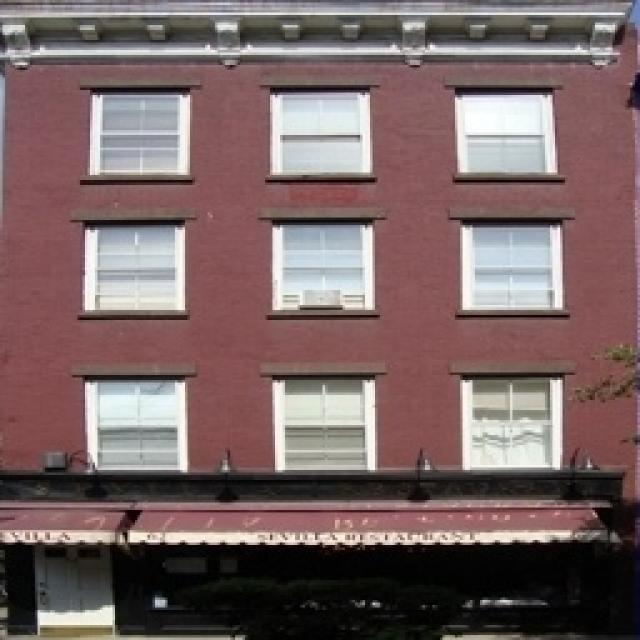Window: (272, 375, 378, 470), (84, 378, 188, 468), (270, 220, 372, 310), (460, 378, 560, 468), (270, 87, 372, 175), (460, 220, 560, 308), (85, 225, 185, 313), (90, 90, 190, 175), (458, 90, 552, 175)
